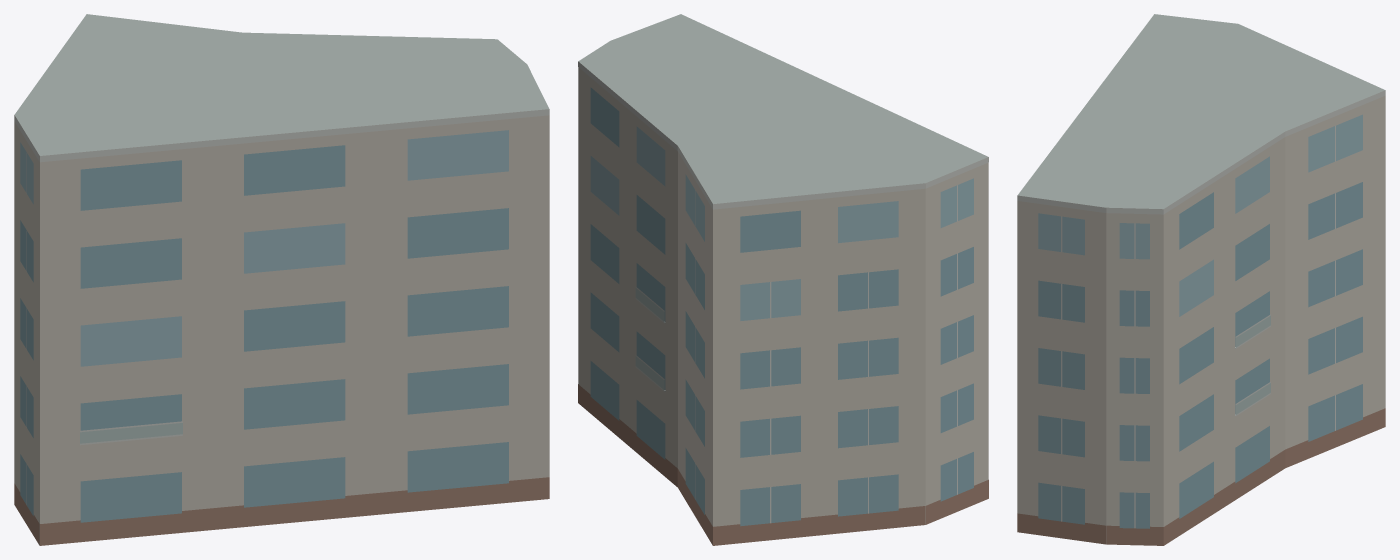
File: survey-upis-32711400.glb
3 views of the same model, side by side, from view 1: azimuth 30°, elevation 25°; view 2: azimuth 150°, elevation 25°; view 3: azimuth 270°, elevation 25° (orthographic). The views are drawn at different scales.
Visible parts, largest first — view 1: survey-upis-32711400.tmp; view 2: survey-upis-32711400.tmp; view 3: survey-upis-32711400.tmp.
Part boxes in pixels (x1,y1,x2,y2): survey-upis-32711400.tmp: [14, 14, 549, 545]; survey-upis-32711400.tmp: [578, 14, 988, 545]; survey-upis-32711400.tmp: [1017, 14, 1385, 545].
Bounding box in the file's own units: 18.9 × 15.2 × 15.07.
